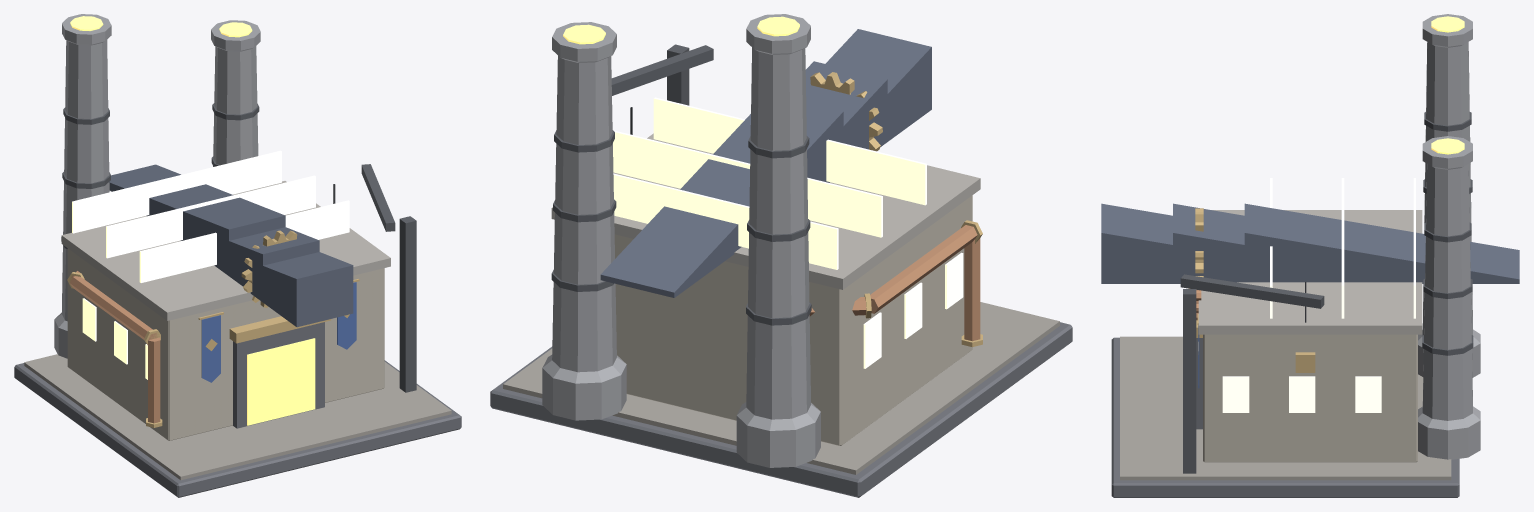
The model's file is foundry.glb.
The picture shows the model from 3 angles, left to right: view 1: azimuth 30°, elevation 25°; view 2: azimuth 150°, elevation 25°; view 3: azimuth 270°, elevation 25°; orthographic projection. The views are drawn at different scales.
Parts seen in each view (by area): view 1: foundry; view 2: foundry; view 3: foundry.
Boxes of the visible parts, box(x1,y1,x2,y2) form: foundry: box(14, 14, 461, 497); foundry: box(490, 14, 1072, 497); foundry: box(1101, 14, 1519, 497).
Size of the model in its own units: 21.52 by 24.2 by 25.27.
